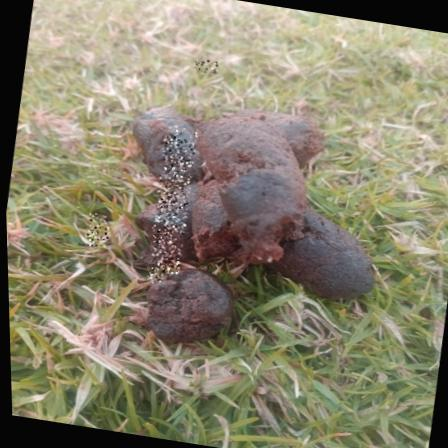dog-poop: (109, 70, 378, 360)
